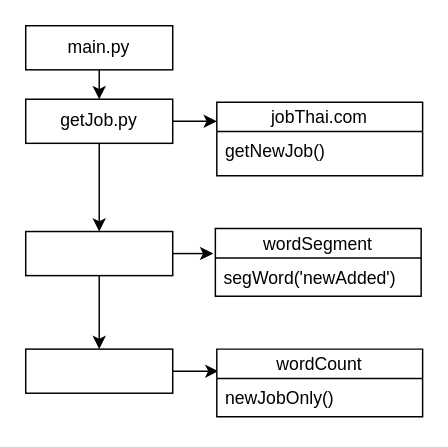
Some shapes in this 448 by 447 pixel diagram are drawn without their labels. Each missing label, with the centre of its shape:
"wordCount.py" belongs at (x=98, y=370).
"wordSegment.py" belongs at (x=98, y=253).
